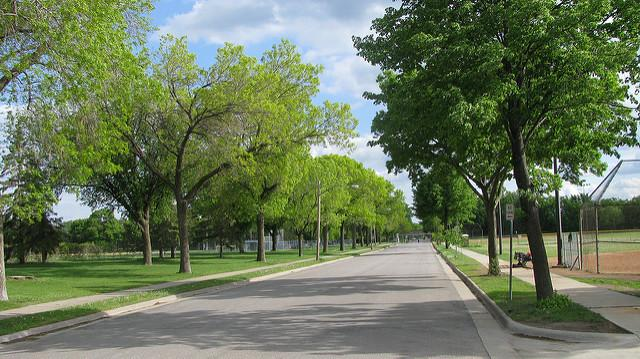tree: (97, 28, 250, 272)
